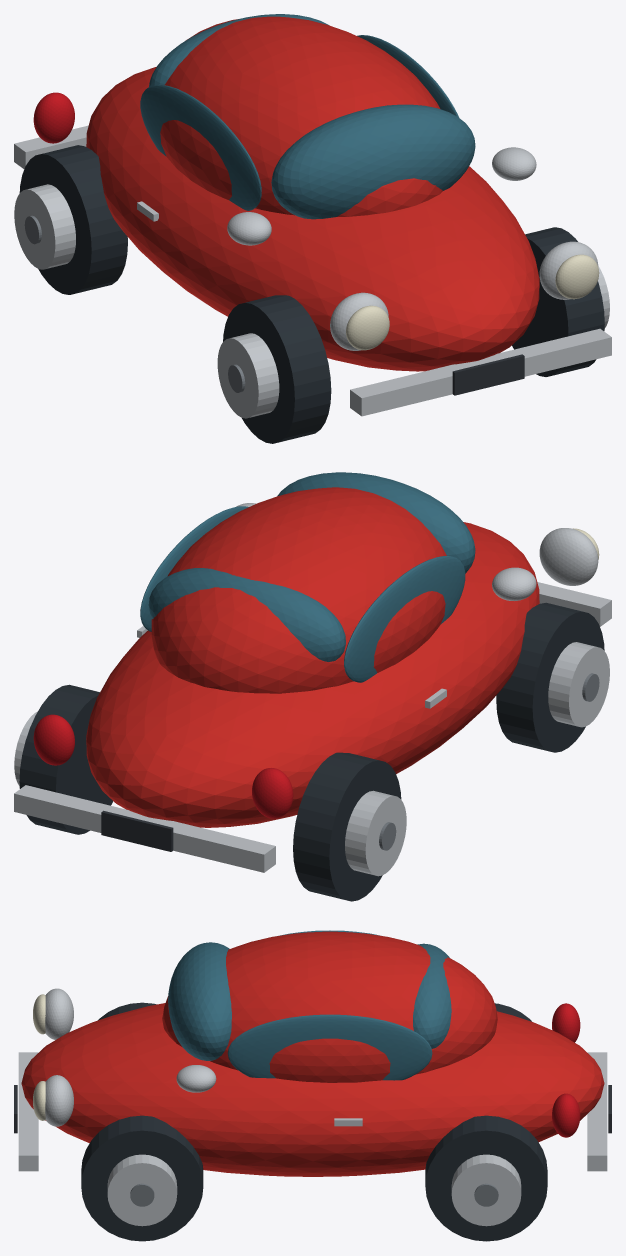
File: GTQHI_VW_Beetle.glb
3 renders of one model, top to bottom at view 1: azimuth 30°, elevation 25°; view 2: azimuth 150°, elevation 25°; view 3: azimuth 270°, elevation 25°, orthographic. The views are drawn at different scales.
Visible parts, largest first — view 1: Rounded Beetle body_0, Domed cabin_1, Front windshield_2, Black rubber tire_11, Black rubber tire_8, Front chrome bumper_6, Side window_4, Black rubber tire_17, Silver wheel rim_12, Silver wheel rim_9, Front plate_28, Rear tail lamp_22 (+9 smaller); view 2: Rounded Beetle body_0, Domed cabin_1, Black rubber tire_8, Black rubber tire_11, Rear chrome bumper_7, Rear window_3, Black rubber tire_14, Side window_4, Front windshield_2, Silver wheel rim_9, Silver wheel rim_12, Round headlight_20 (+6 smaller); view 3: Rounded Beetle body_0, Domed cabin_1, Black rubber tire_14, Black rubber tire_17, Side window_5, Front windshield_2, Silver wheel rim_15, Silver wheel rim_18, Rear window_3, Rear chrome bumper_7, Front chrome bumper_6, Round headlight_23 (+8 smaller).
Part boxes in pixels (<box>): Rounded Beetle body_0: <box>86,67,539,371</box>; Domed cabin_1: <box>160,16,442,216</box>; Front windshield_2: <box>271,104,475,219</box>; Black rubber tire_11: <box>223,295,331,443</box>; Black rubber tire_8: <box>19,145,127,294</box>; Front chrome bumper_6: <box>350,328,611,416</box>; Side window_4: <box>140,84,261,210</box>; Black rubber tire_17: <box>512,227,604,376</box>; Silver wheel rim_12: <box>217,333,279,418</box>; Silver wheel rim_9: <box>14,184,75,269</box>; Front plate_28: <box>452,354,524,395</box>; Rear tail lamp_22: <box>33,92,74,143</box>; Rounded Beetle body_0: <box>86,522,539,827</box>; Domed cabin_1: <box>151,487,446,693</box>; Black rubber tire_8: <box>293,752,401,901</box>; Black rubber tire_11: <box>496,602,604,752</box>; Rear chrome bumper_7: <box>14,785,275,872</box>; Rear window_3: <box>148,568,345,661</box>; Black rubber tire_14: <box>19,684,112,834</box>; Side window_4: <box>344,556,465,682</box>; Front windshield_2: <box>277,472,475,573</box>; Silver wheel rim_9: <box>345,790,406,876</box>; Silver wheel rim_12: <box>548,642,609,727</box>; Round headlight_20: <box>539,528,598,585</box>; Rounded Beetle body_0: <box>21,1003,604,1176</box>; Domed cabin_1: <box>162,931,497,1082</box>; Black rubber tire_14: <box>425,1115,547,1241</box>; Black rubber tire_17: <box>81,1115,203,1241</box>; Side window_5: <box>227,1014,432,1080</box>; Front windshield_2: <box>168,942,231,1060</box>; Silver wheel rim_15: <box>451,1154,521,1226</box>; Silver wheel rim_18: <box>107,1154,177,1226</box>; Rear window_3: <box>413,943,451,1048</box>; Rear chrome bumper_7: <box>587,1052,607,1171</box>; Front chrome bumper_6: <box>18,1052,38,1171</box>; Round headlight_23: <box>45,1075,73,1126</box>.
Size of the model in its own units: 2.45 by 1.8 by 4.2.
